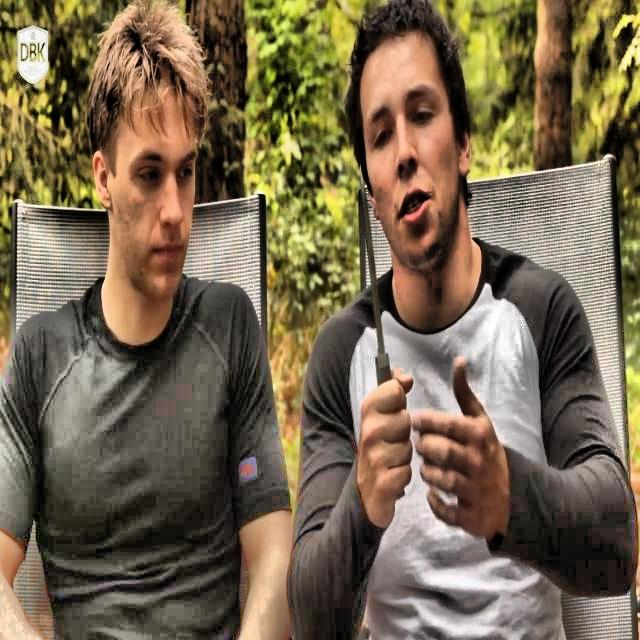knife: (360, 171, 404, 499)
